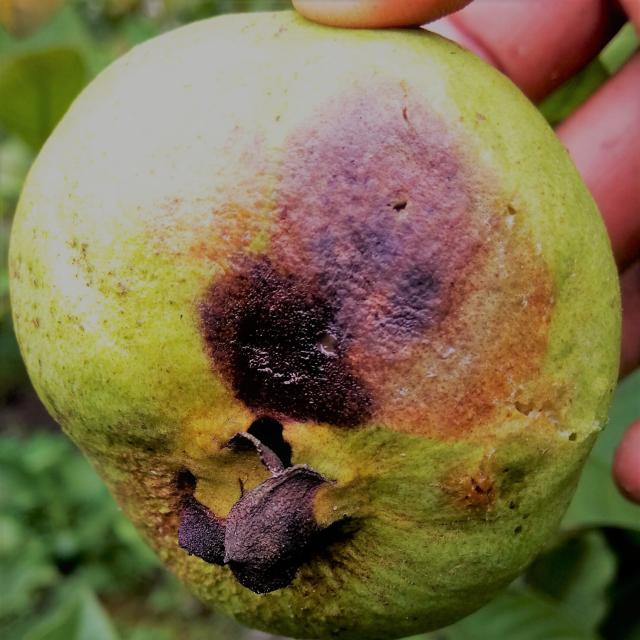Styler and Root: (9, 12, 620, 637)
